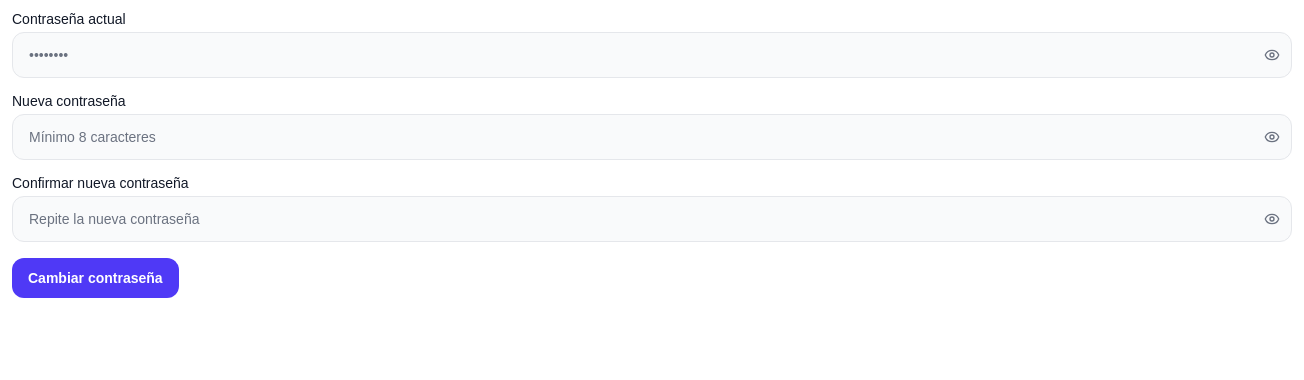
it: ChangePasswordForm › shows API error message on failed request
The width and height of the screenshot is (1304, 380).
Type "wrongpass" into the password field labelled "Contraseña actual" at (652, 55), box [12,32,1292,78]
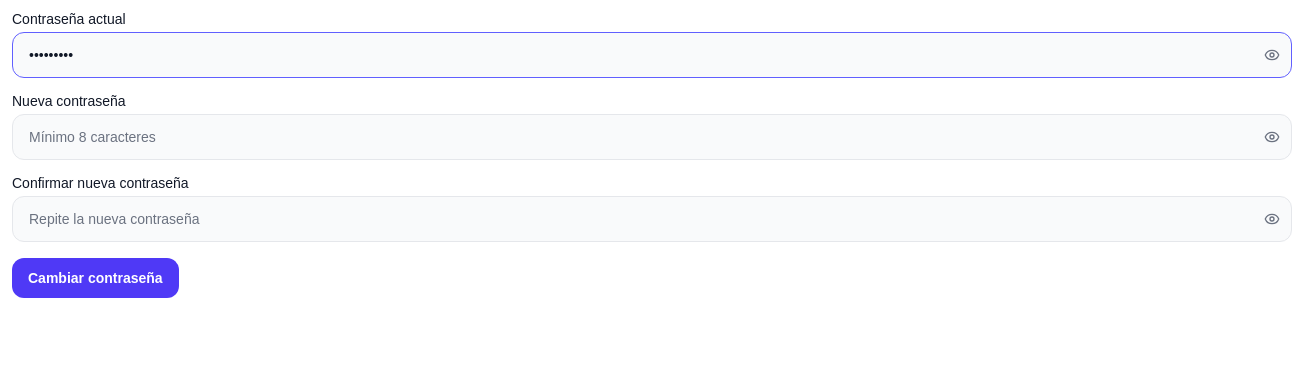
Type "newpass123" into the password field labelled "Nueva contraseña" at (652, 137), box [12,114,1292,160]
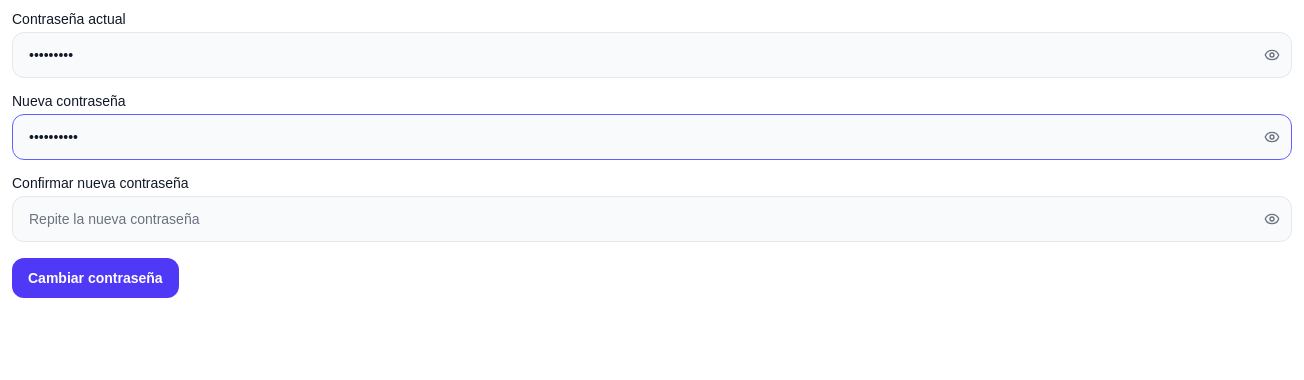
Type "newpass123" into the password field labelled "Confirmar nueva contraseña" at (652, 219), box [12,196,1292,242]
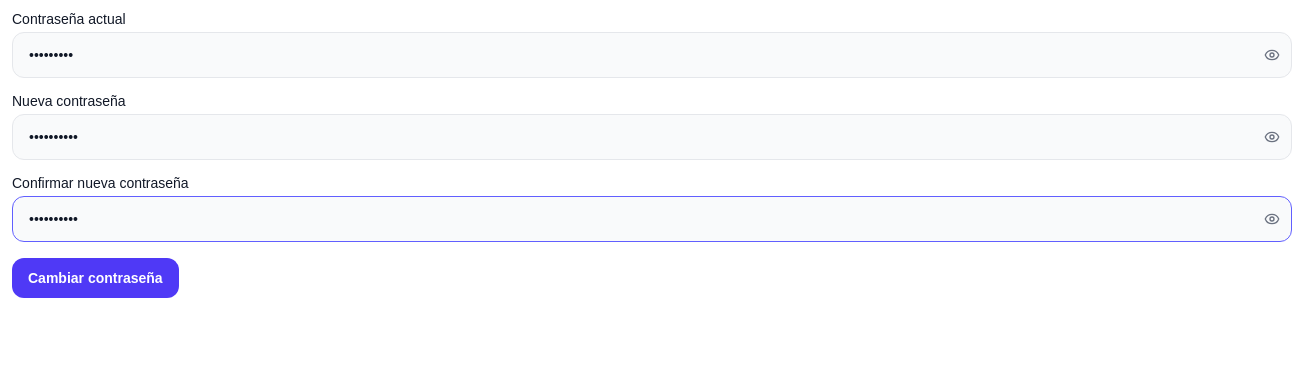
Submit the form "Cambiar contraseña"
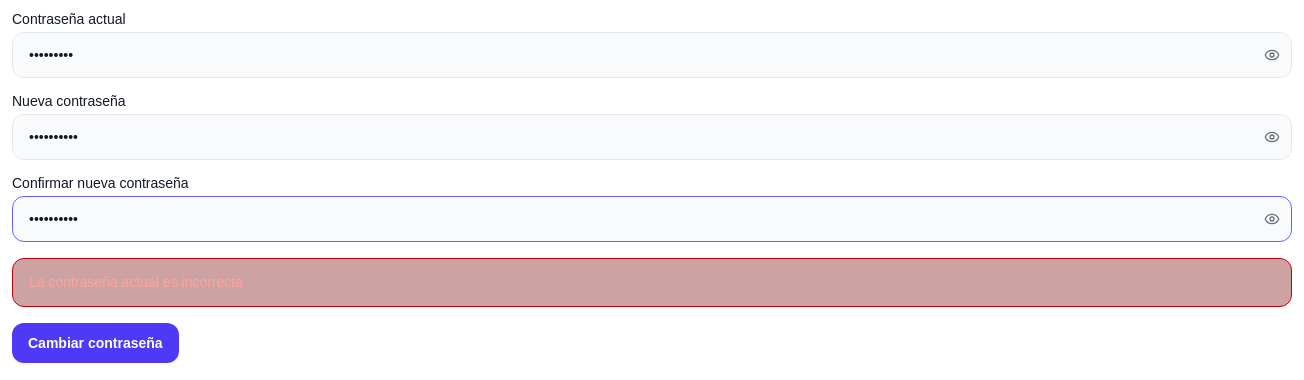
Expected: the text "La contraseña actual es incorrecta" is shown, [29,274,243,290]
